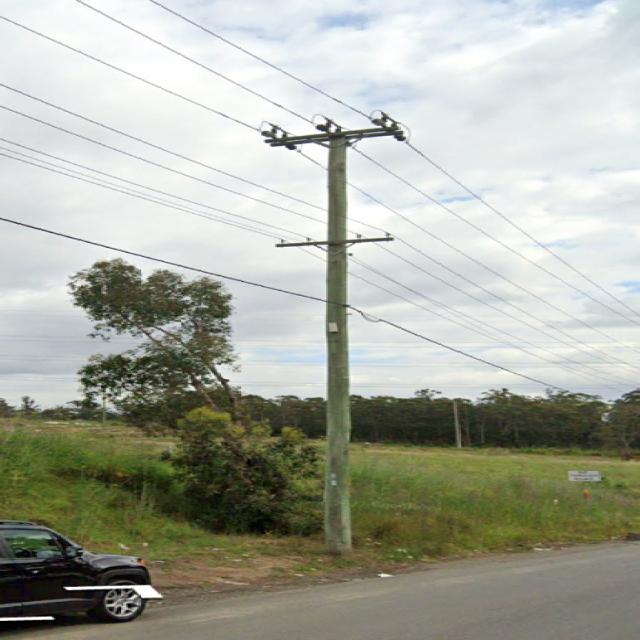HV-transmission: (260, 114, 408, 151)
crossarm: (260, 122, 394, 142), (267, 130, 398, 146), (274, 236, 396, 248)
timber-pole: (320, 130, 349, 551)
